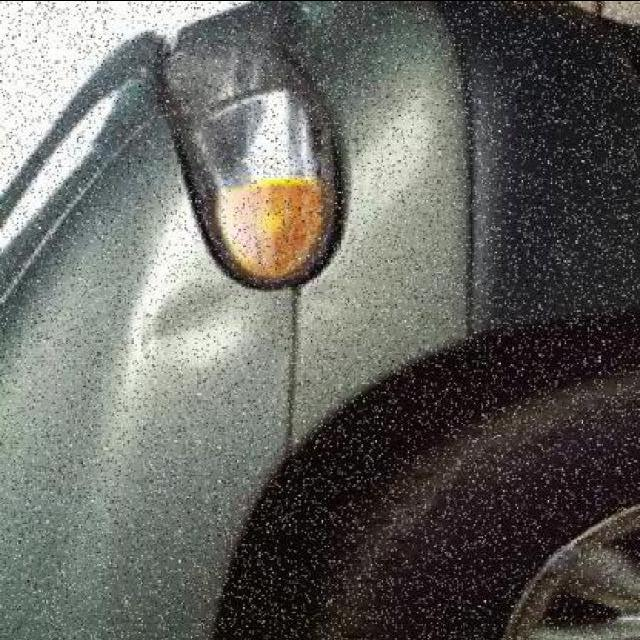fender-dent: (31, 255, 421, 635)
